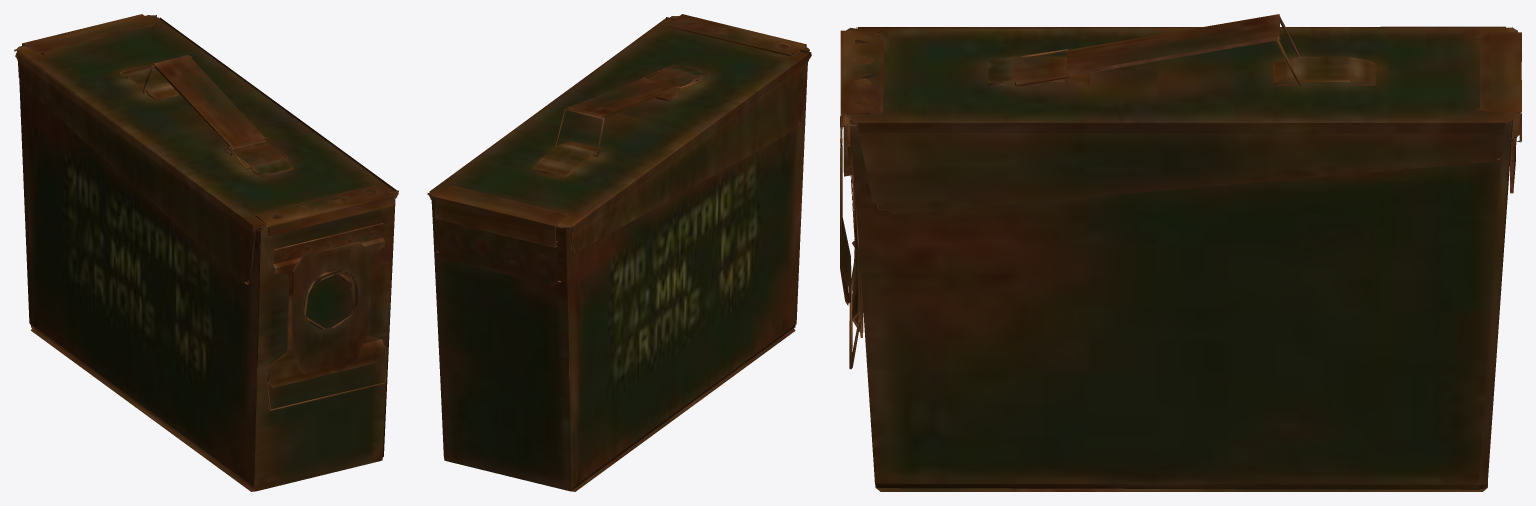
File: ammo_box.glb
The picture shows the model from 3 angles, left to right: view 1: azimuth 30°, elevation 25°; view 2: azimuth 150°, elevation 25°; view 3: azimuth 270°, elevation 25°; orthographic projection. The views are drawn at different scales.
Visible parts, largest first — view 1: ammo_box_handle_ring_b; view 2: ammo_box_handle_ring_b; view 3: ammo_box_handle_ring_b.
Boxes of the visible parts, x1=… form: ammo_box_handle_ring_b: x1=14, y1=14, x2=398, y2=491; ammo_box_handle_ring_b: x1=427, y1=14, x2=811, y2=491; ammo_box_handle_ring_b: x1=840, y1=14, x2=1521, y2=491.
Size of the model in its own units: 0.0869 by 0.1765 by 0.2577.
Materials: 1 (1 with a texture image).
